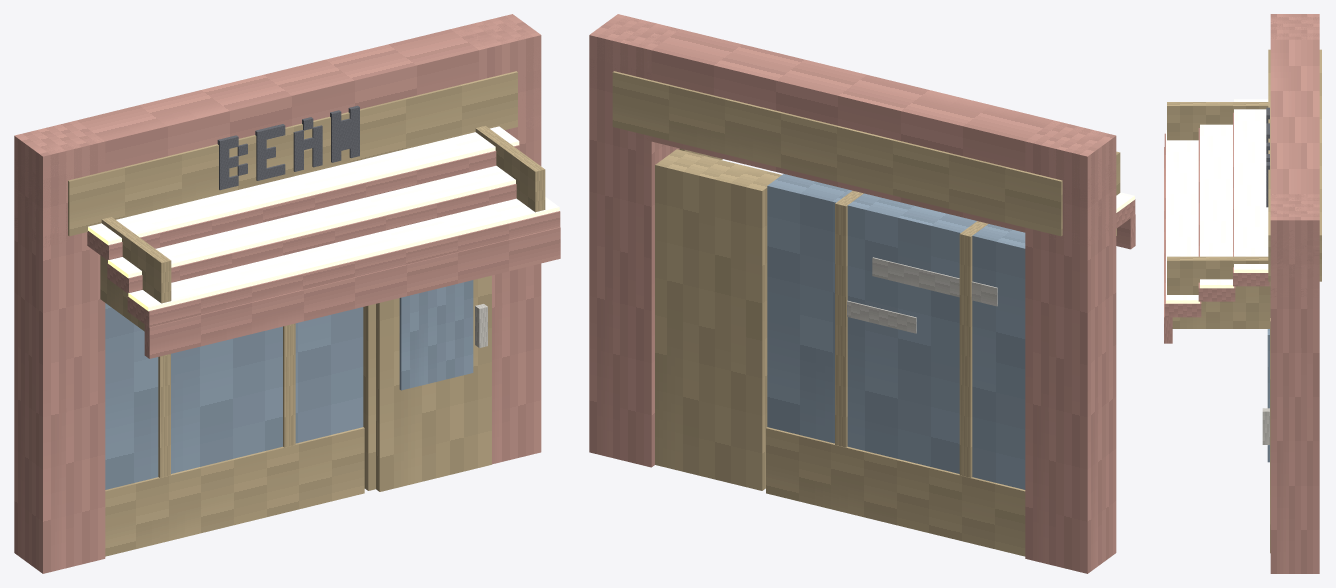
Rendered from pixel-modern-city-street-shopfront-bay-cafe-77a0d898__29002.glb.
The picture shows the model from 3 angles, left to right: view 1: azimuth 30°, elevation 25°; view 2: azimuth 150°, elevation 25°; view 3: azimuth 270°, elevation 25°; orthographic projection. The views are drawn at different scales.
Parts seen in each view (by area): view 1: shopfront-bay-cafe, door-shop/oak, door-shop/slate; view 2: shopfront-bay-cafe; view 3: shopfront-bay-cafe, door-shop/bone, door-shop/slate, door-shop/oak.
Boxes of the visible parts, left/top/right/bottom form: shopfront-bay-cafe: left=14, top=14, right=560, bottom=573; door-shop/oak: left=376, top=275, right=491, bottom=491; door-shop/slate: left=399, top=280, right=473, bottom=390; shopfront-bay-cafe: left=589, top=14, right=1135, bottom=573; shopfront-bay-cafe: left=1164, top=14, right=1321, bottom=573; door-shop/bone: left=1262, top=408, right=1269, bottom=444; door-shop/slate: left=1267, top=329, right=1269, bottom=462; door-shop/oak: left=1270, top=318, right=1270, bottom=553.
Bounding box in the file's own units: 4 × 3.2 × 1.3.
Materials: 6 (6 with a texture image).
